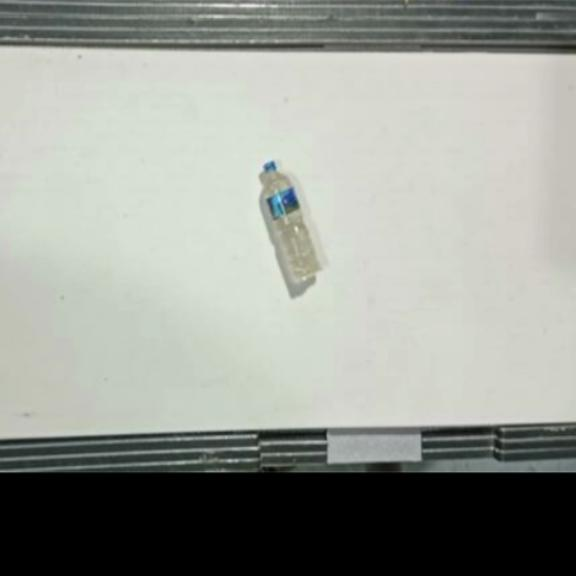Plastik: (263, 160, 321, 285)
